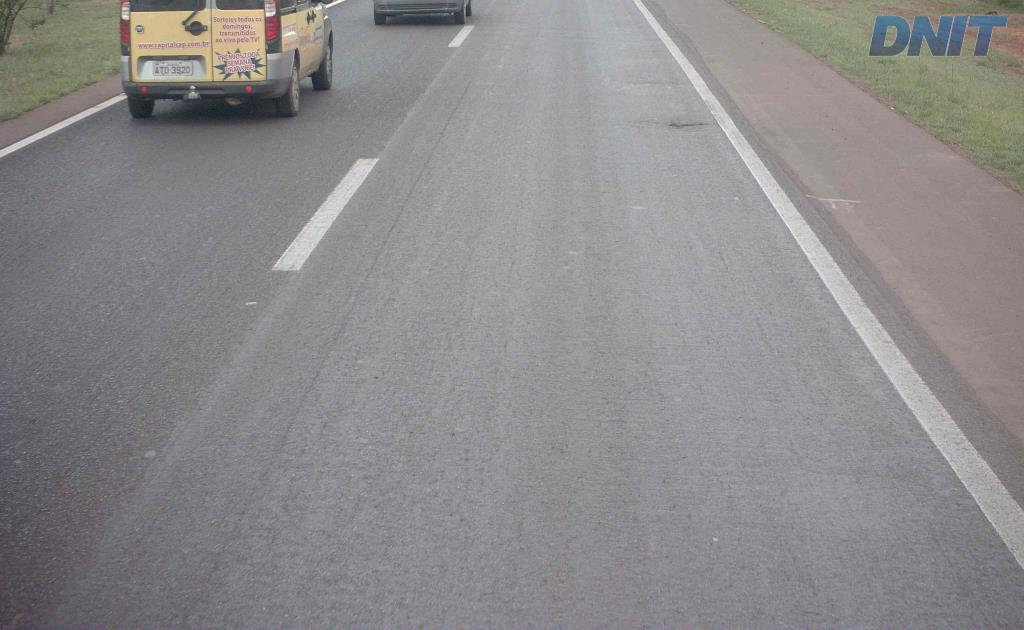pothole: (664, 118, 710, 131)
